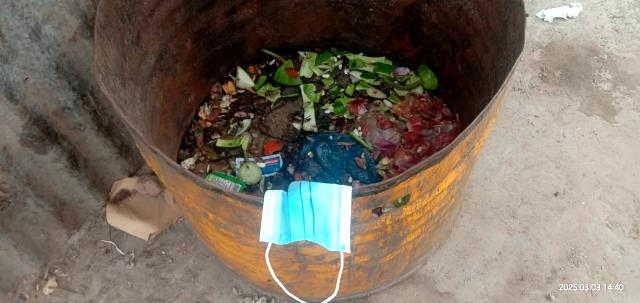mask: (257, 185, 365, 299)
